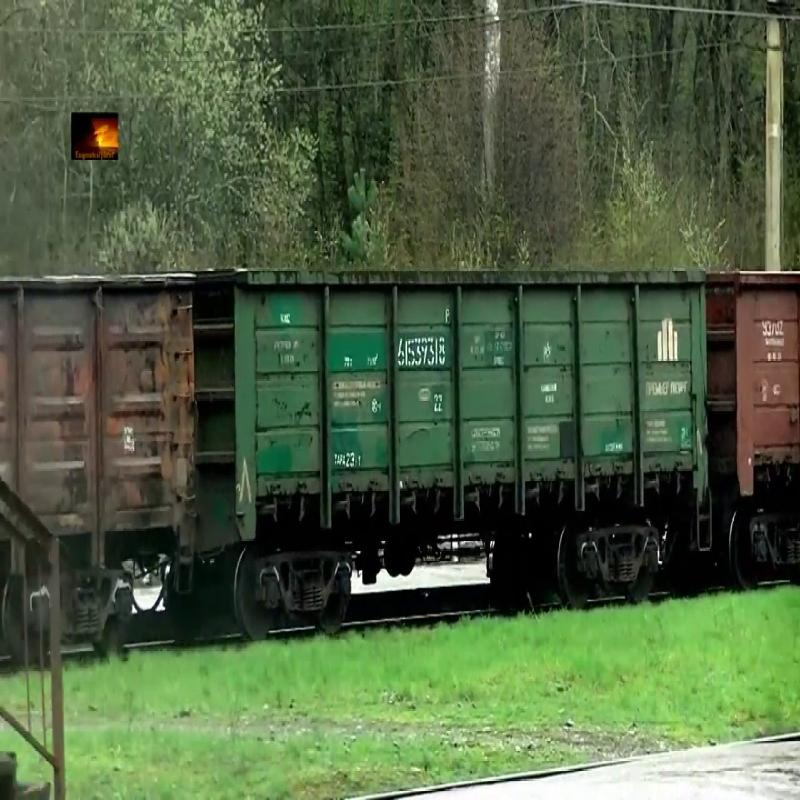train: (194, 268, 708, 544), (1, 275, 195, 574), (708, 272, 800, 502)
